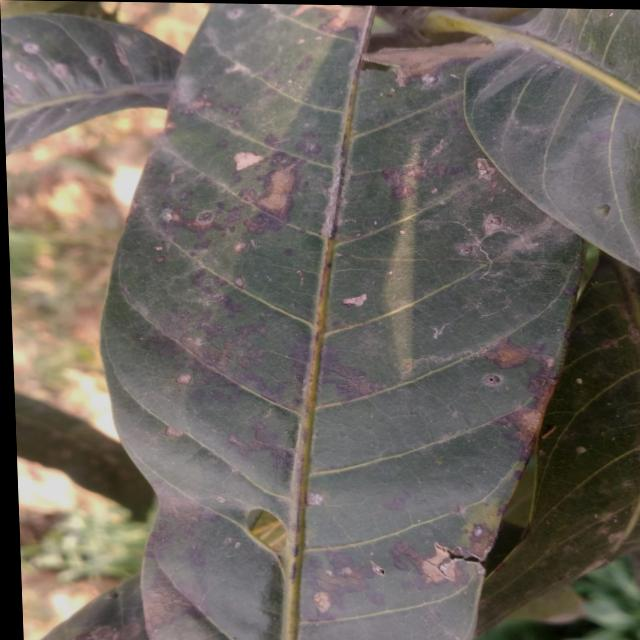Bacterial Cancer: (456, 212, 571, 264), (407, 529, 486, 596), (238, 497, 295, 558), (255, 161, 298, 214)
